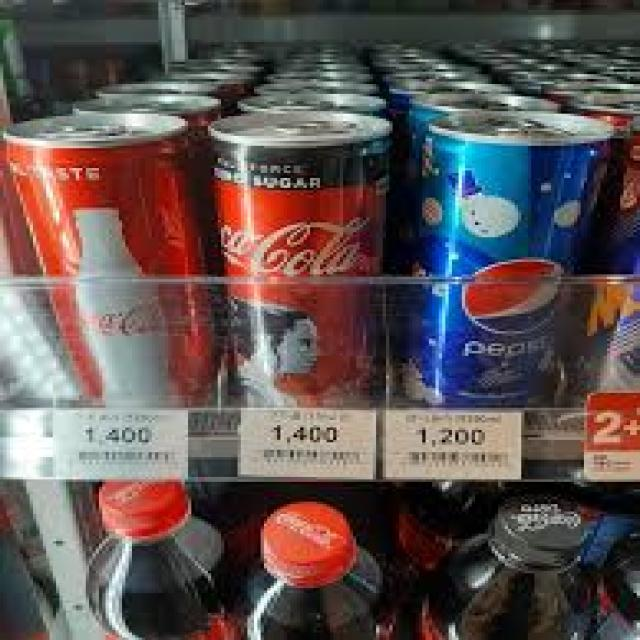Coca-Cola: (1, 120, 218, 410)
